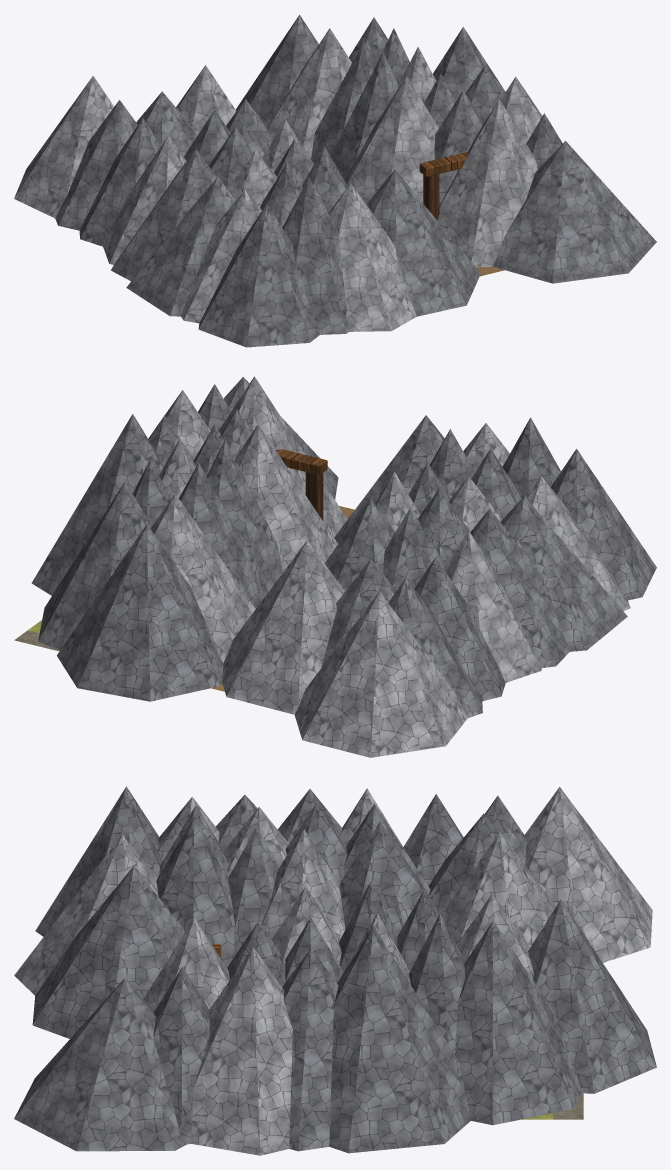
File: chunk_9_18.glb
3 renders of one model, top to bottom at view 1: azimuth 30°, elevation 25°; view 2: azimuth 150°, elevation 25°; view 3: azimuth 270°, elevation 25°, orthographic. The views are drawn at different scales.
Parts seen in each view (by area): view 1: chunk_9_18; view 2: chunk_9_18; view 3: chunk_9_18.
Boxes of the visible parts, x1,y1,x2,y2 form: chunk_9_18: (14,14,656,347); chunk_9_18: (14,376,656,757); chunk_9_18: (14,786,656,1155).
Size of the model in its own units: 21.38 by 6.58 by 21.22.
9 materials, 8 textured.
